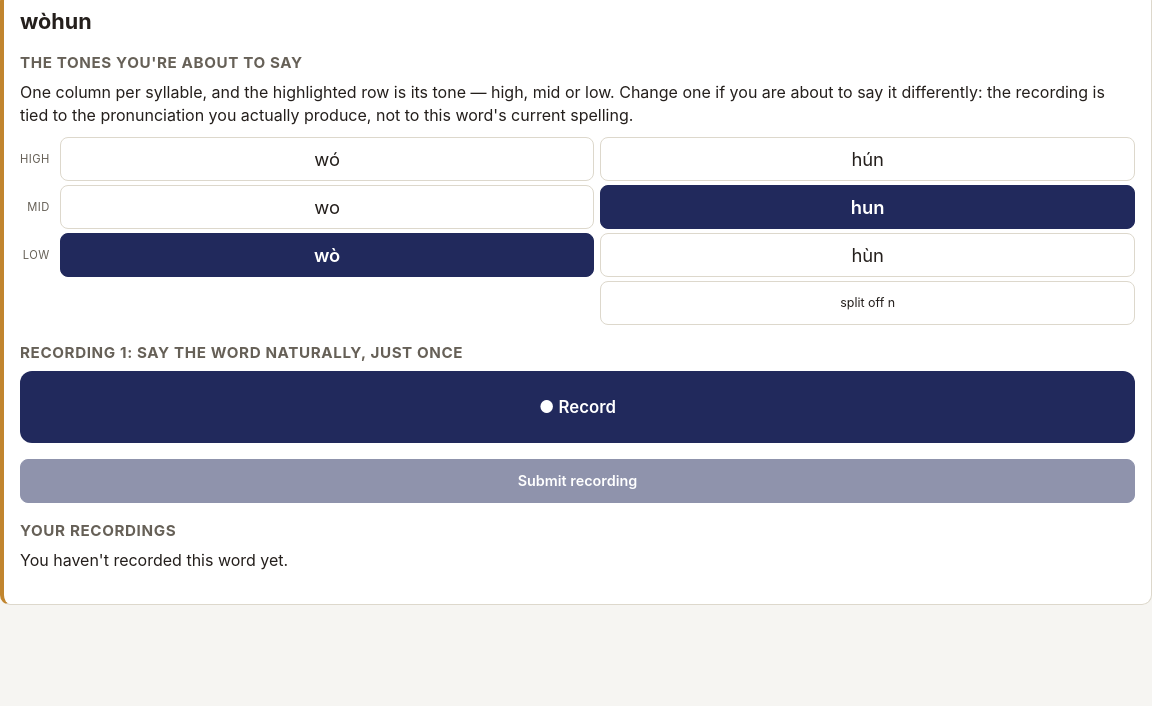
Test case: AudioRecording › reports a mismatch and keeps submit disabled when the detected count differs
Expected: the heading "wòhun" is shown, [20,8,92,34]
Click the button "● Record": (578, 407) [20,371,1135,443]
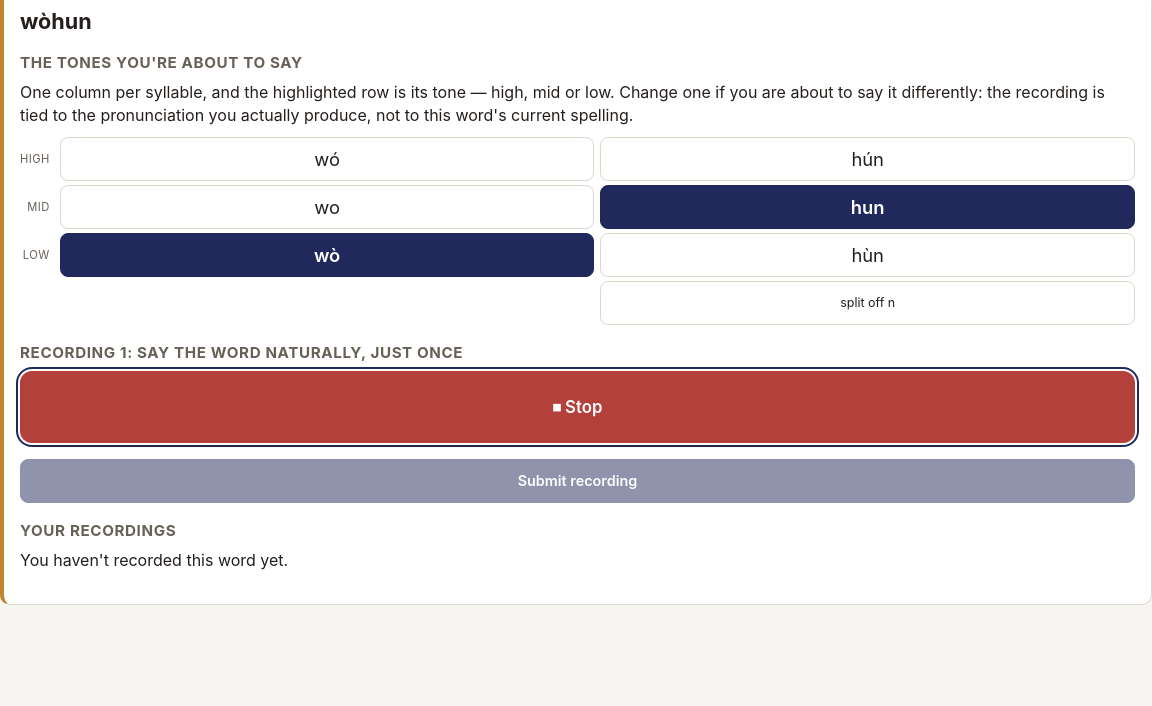
Click the button "⏹ Stop": (578, 407) [20,371,1135,443]
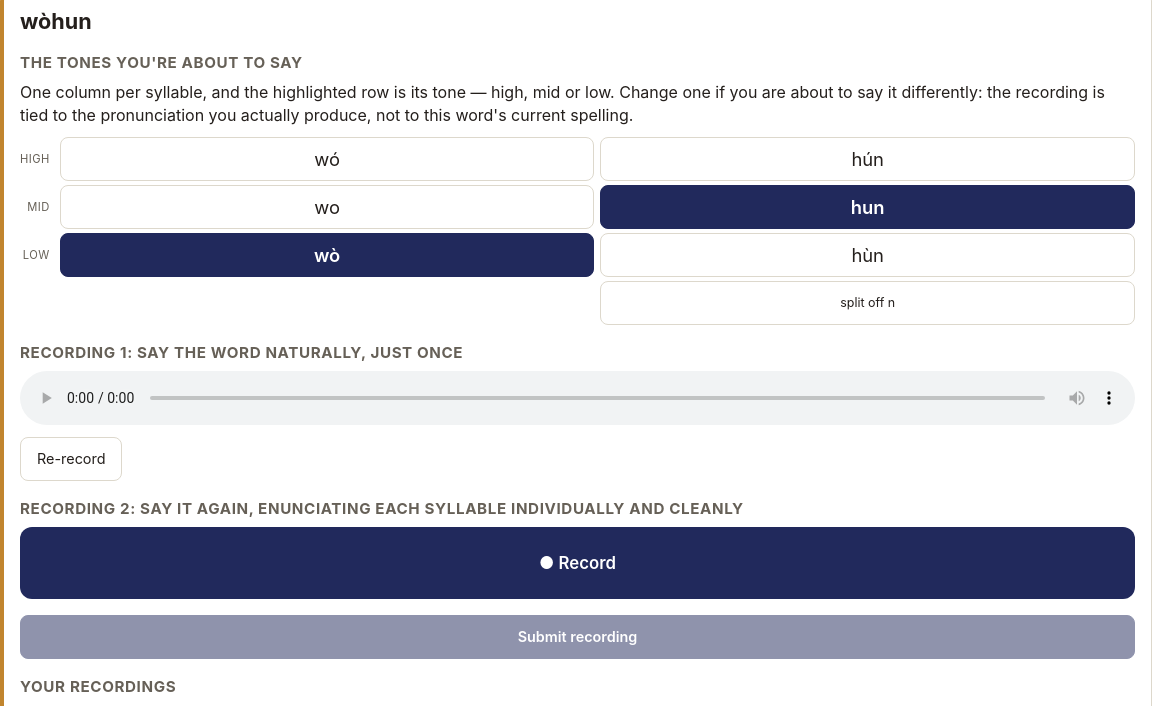
Click the button "● Record": (578, 563) [20,527,1135,599]
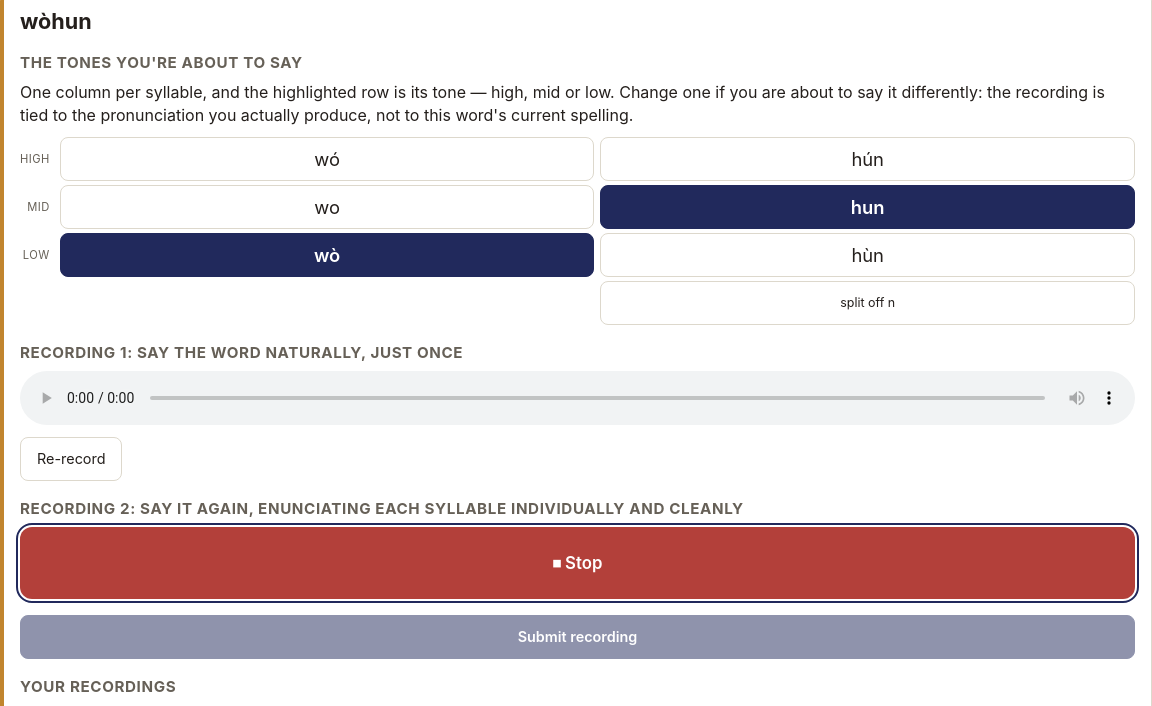
Click the button "⏹ Stop": (578, 563) [20,527,1135,599]
(page scrolled)
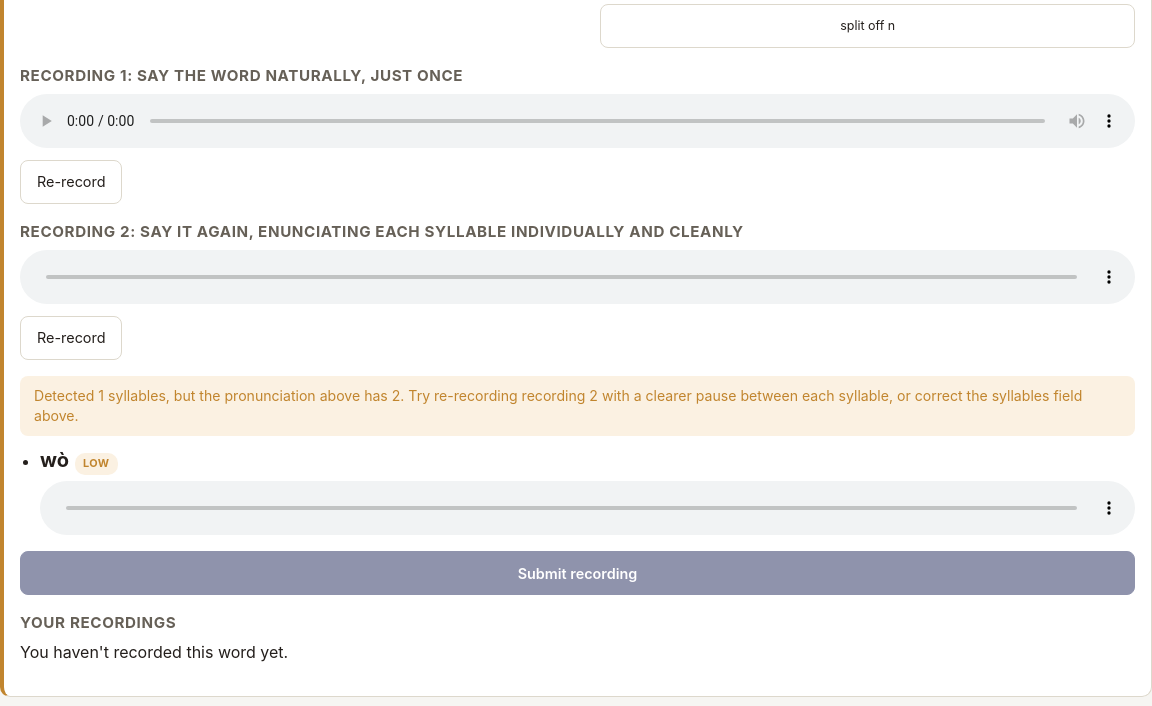
Expected: the button "Submit recording" is disabled, [20,551,1135,595]
Now the text "Detected 1 syllables, but the pronunciation above has 2" is shown, box [20,376,1135,436]
